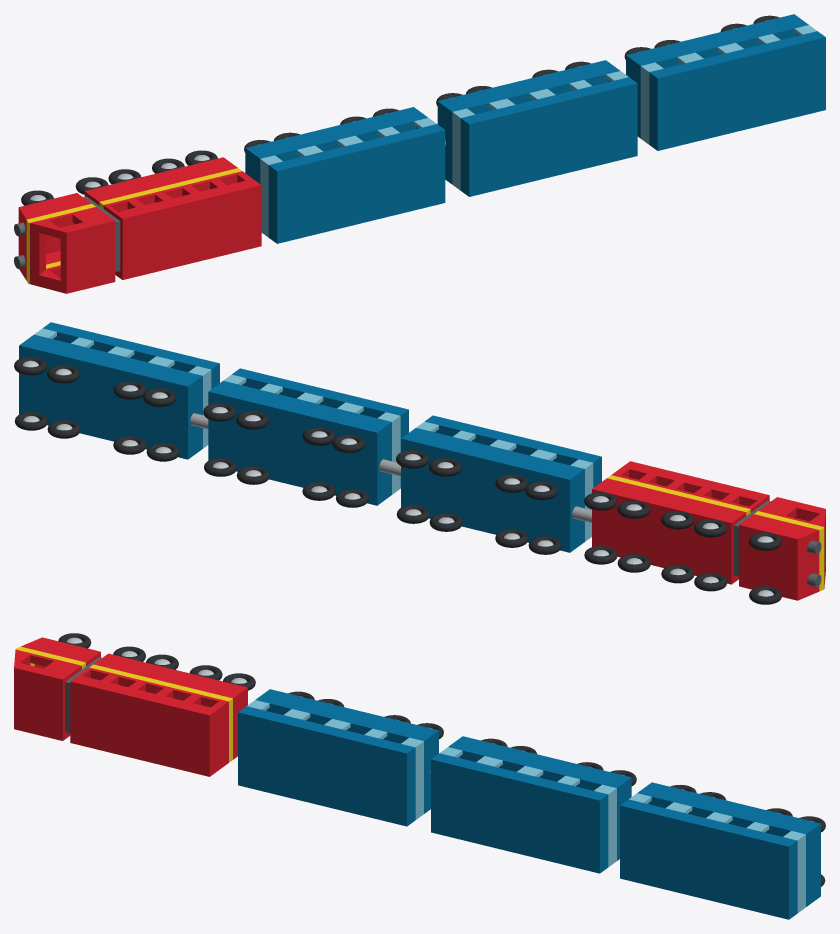
File: tinker.obj
The picture shows the model from 3 angles, top to bottom: view 1: azimuth 30°, elevation 25°; view 2: azimuth 150°, elevation 25°; view 3: azimuth 330°, elevation 25°; orthographic projection.
Parts seen in each view (by area): view 1: group_0_30377, group_0_15277357, group_0_8768998, group_0_2829873, group_0_16768282, group_0_6383466; view 2: group_0_30377, group_0_15277357, group_0_2829873, group_0_8768998, group_0_12568524, group_0_16768282, group_0_6383466, group_0_10988977; view 3: group_0_30377, group_0_15277357, group_0_8768998, group_0_2829873, group_0_16768282.
Boxes of the visible parts, box(x1,y1,x2,y2) form: group_0_30377: box(245, 14, 825, 243); group_0_15277357: box(18, 157, 261, 293); group_0_8768998: box(260, 25, 816, 237); group_0_2829873: box(21, 15, 779, 205); group_0_16768282: box(26, 168, 241, 283); group_0_6383466: box(14, 196, 120, 271); group_0_30377: box(19, 322, 601, 552); group_0_15277357: box(592, 461, 825, 600); group_0_2829873: box(14, 356, 782, 604); group_0_8768998: box(34, 328, 593, 541); group_0_12568524: box(22, 360, 773, 596); group_0_16768282: box(607, 475, 824, 591); group_0_6383466: box(733, 500, 821, 587); group_0_10988977: box(190, 413, 591, 522); group_0_30377: box(238, 689, 820, 919); group_0_15277357: box(14, 637, 247, 776); group_0_8768998: box(247, 700, 805, 912); group_0_2829873: box(58, 633, 825, 886); group_0_16768282: box(15, 646, 232, 762).
Bounding box in the file's own units: 215 × 19 × 25.
